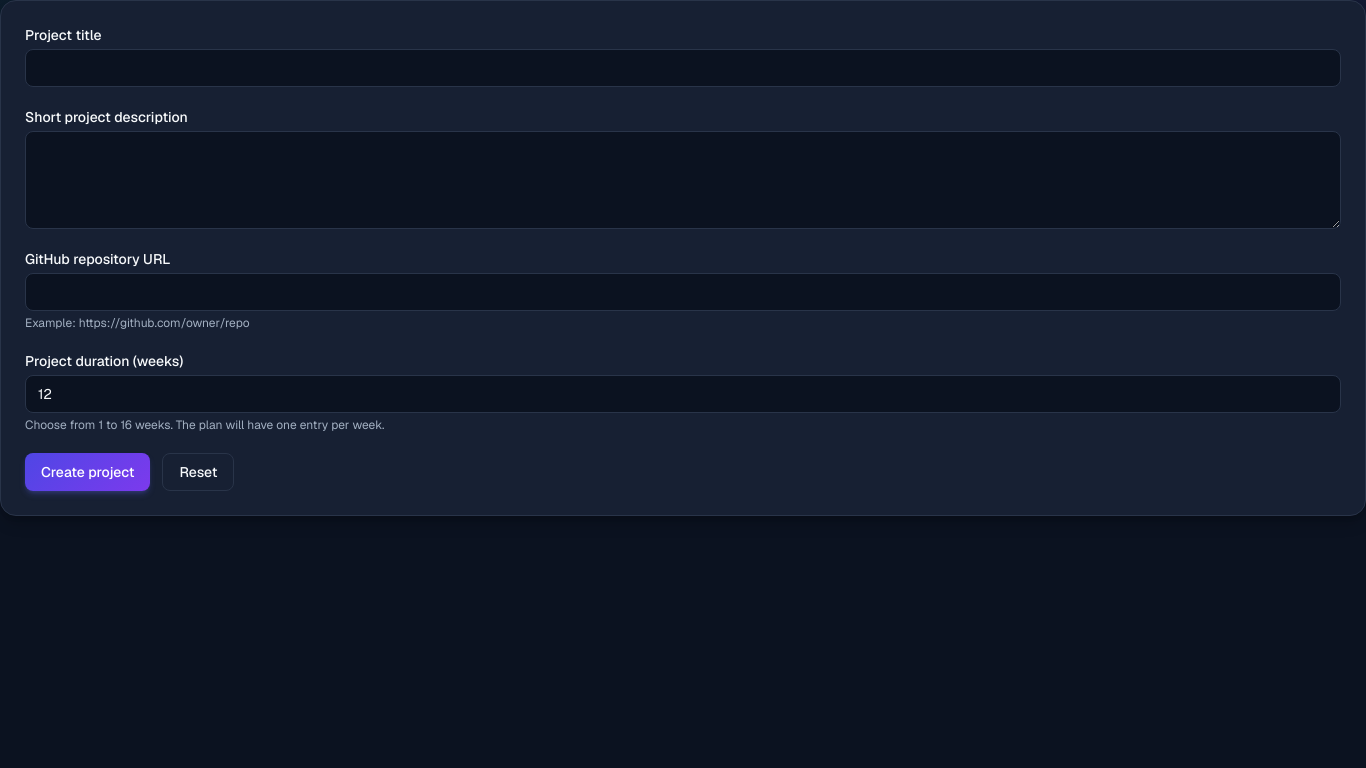
ProjectForm › refuses a duration of 0 without submitting
This screenshot has width=1366, height=768.
In the field labelled "Project title": {"x": 683, "y": 68} [25,49,1341,87], type "Smart Attendance"
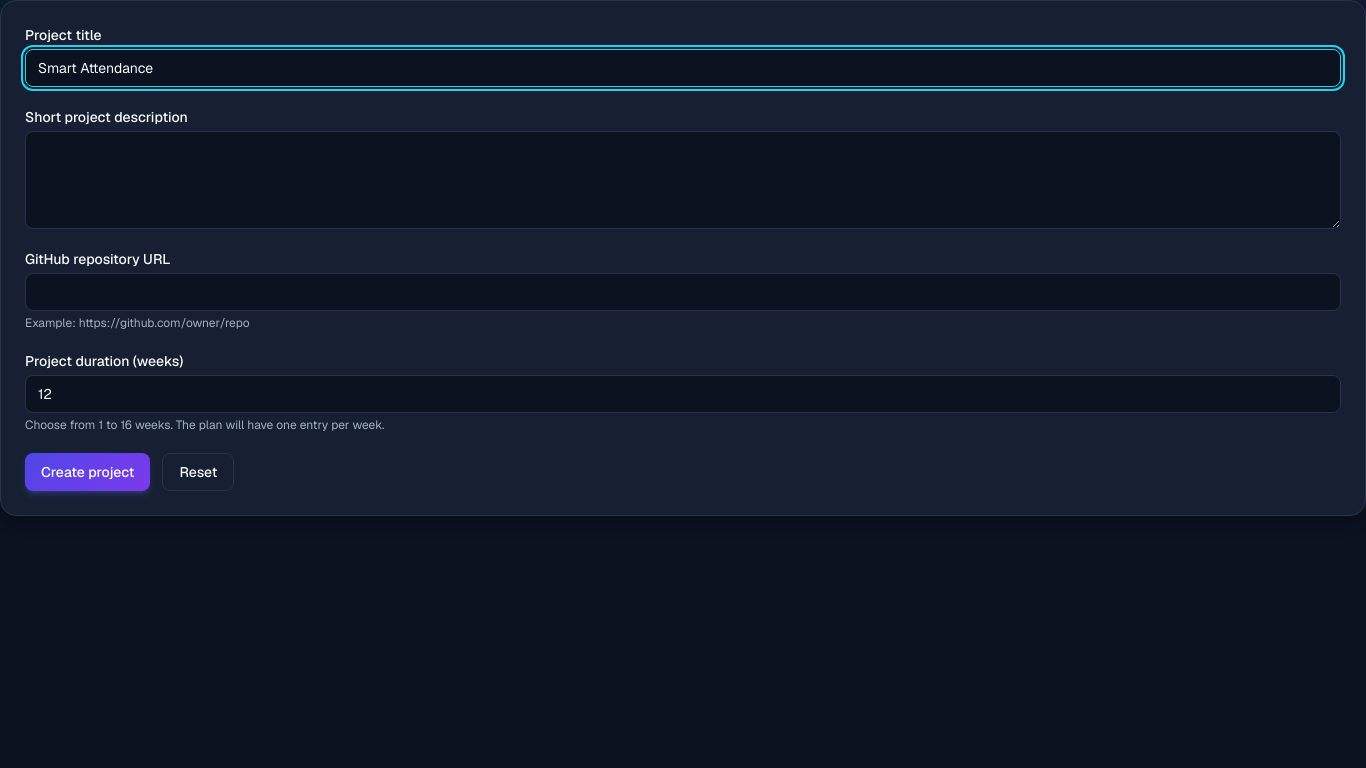
In the text box labelled "Short project description": {"x": 683, "y": 180} [25,131,1341,229], type "A system that marks attendance using face recognition."
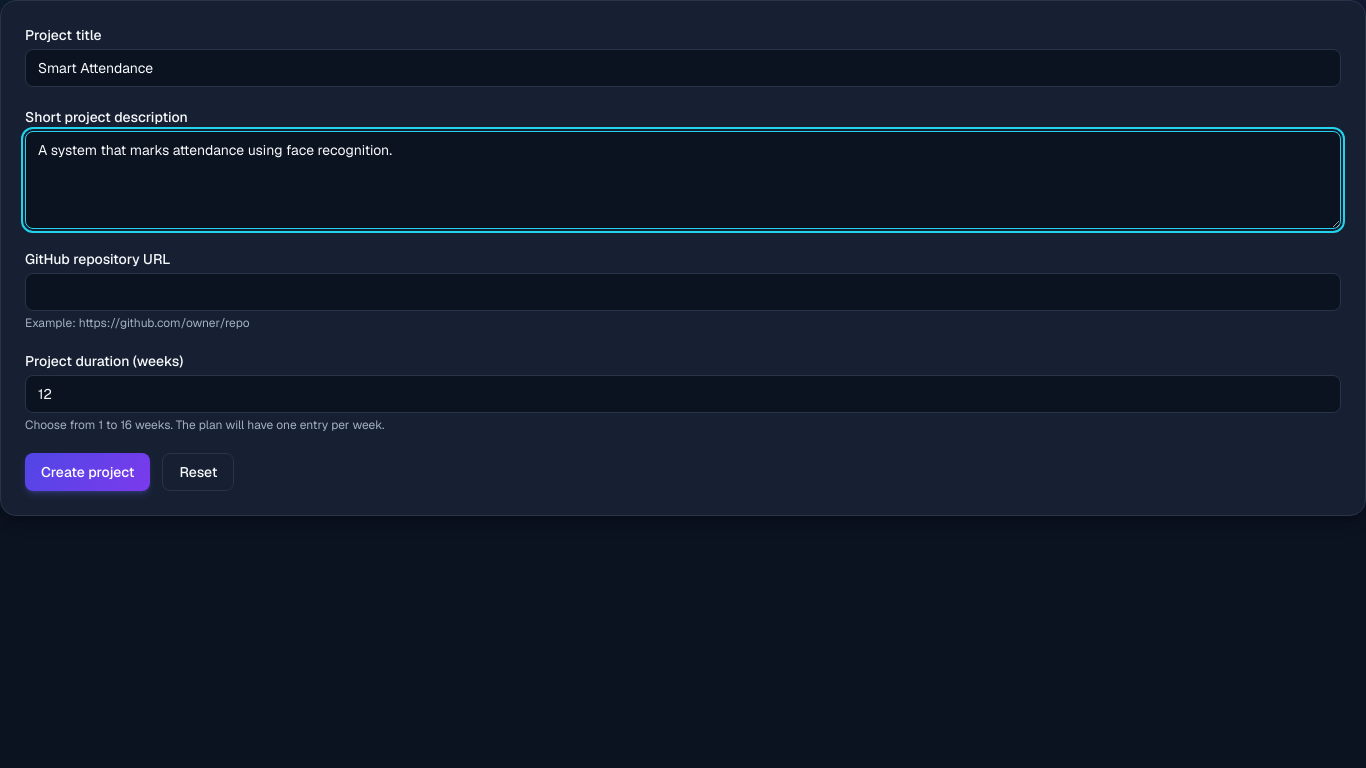
In the field labelled "GitHub repository URL": {"x": 683, "y": 292} [25,273,1341,311], type "https://github.com/octocat/hello-world"
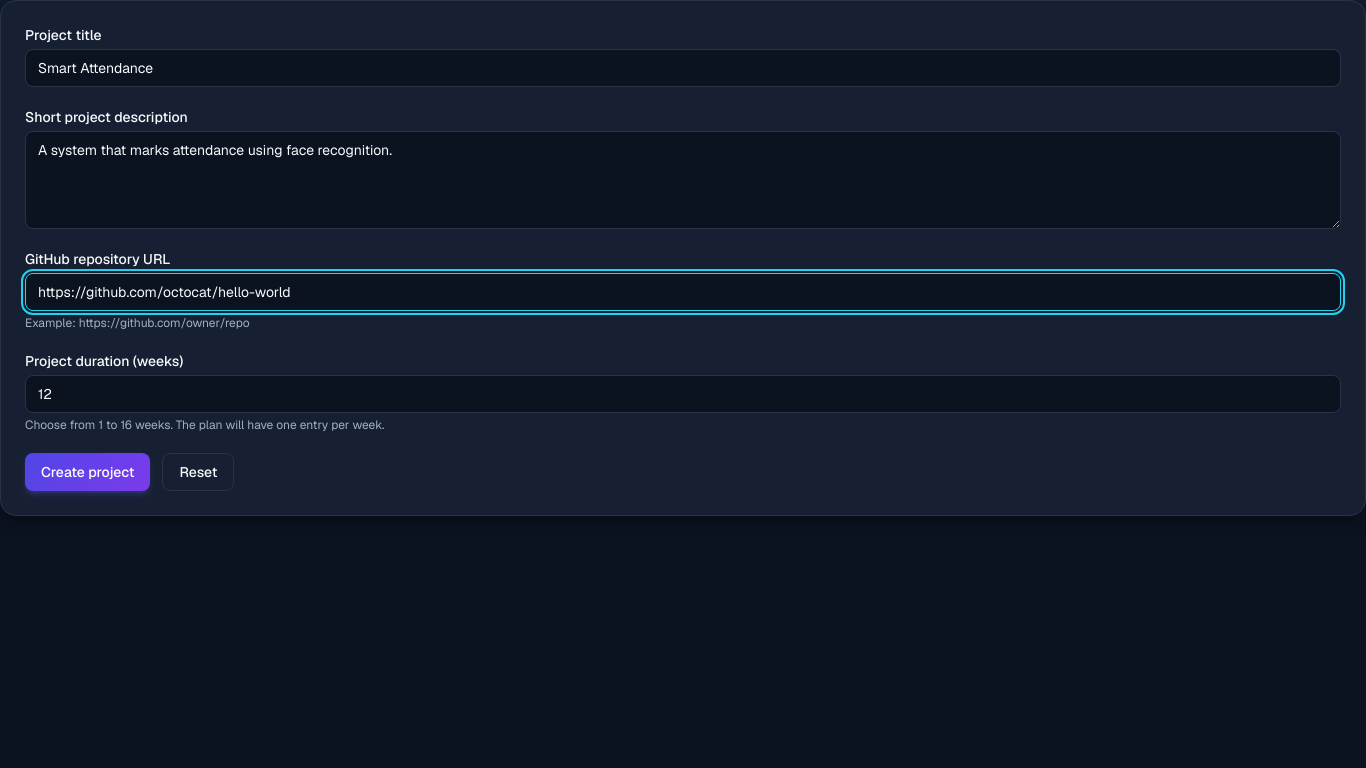
Replace the text in the number field labelled "Project duration (weeks)" with "0": {"x": 683, "y": 394} [25,375,1341,413]
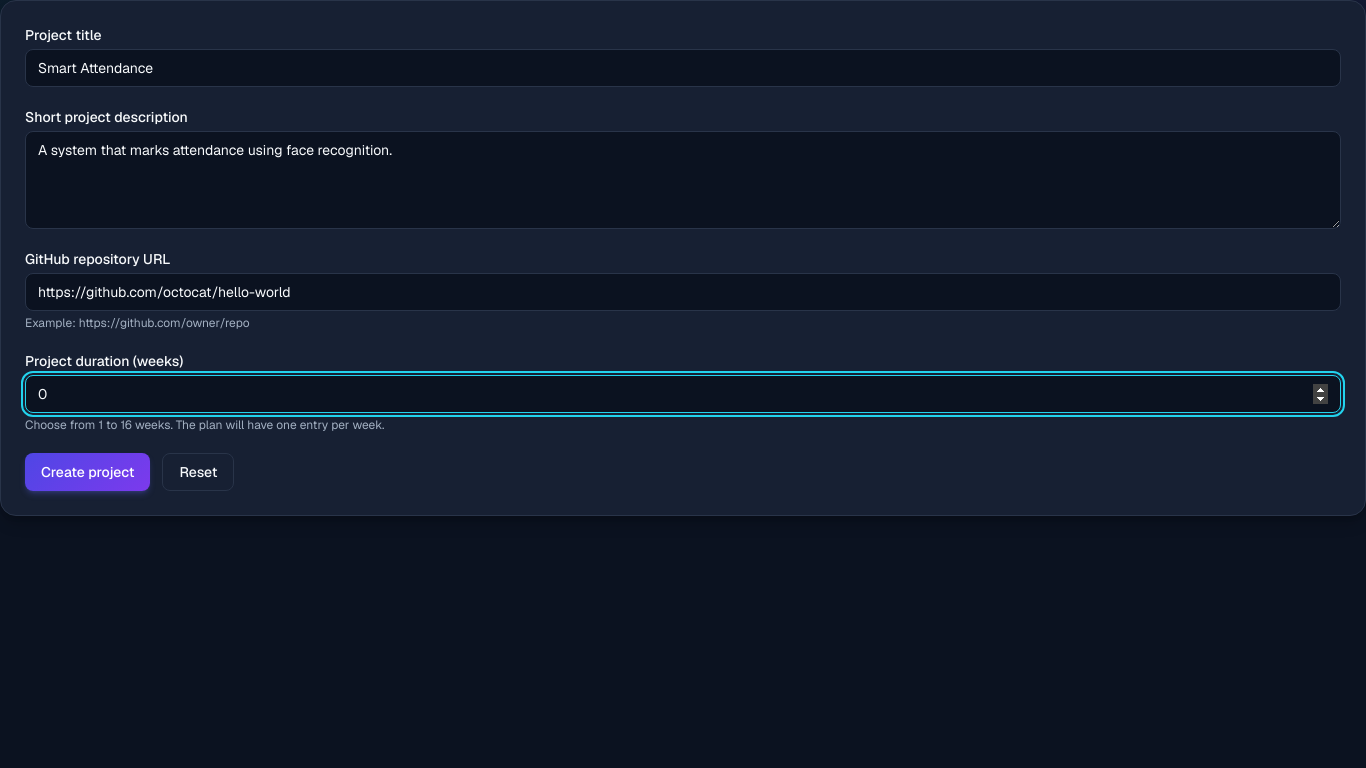
Click the button "Create project": {"x": 88, "y": 472} [25,453,150,491]
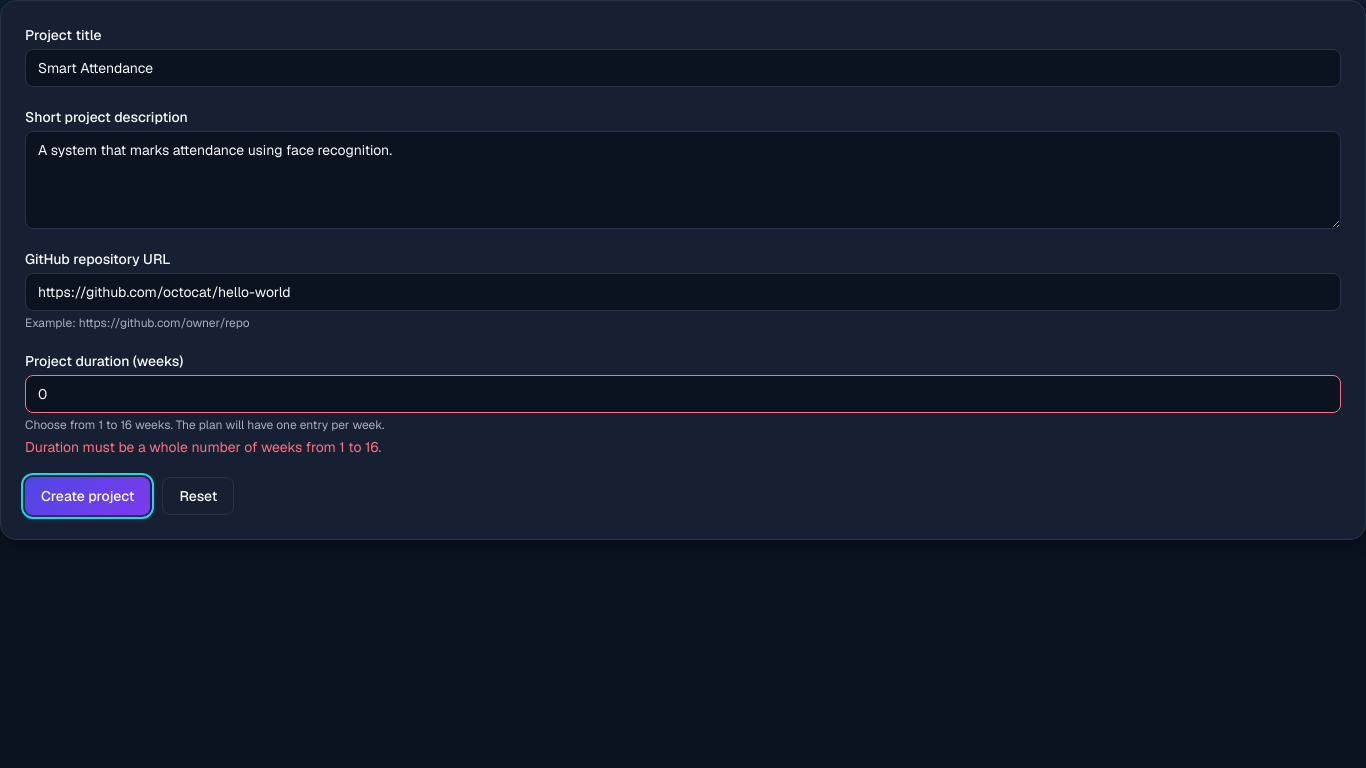
Result: the message reads "Duration must be a whole number of weeks from 1 to 16." at [25,438,381,456]
